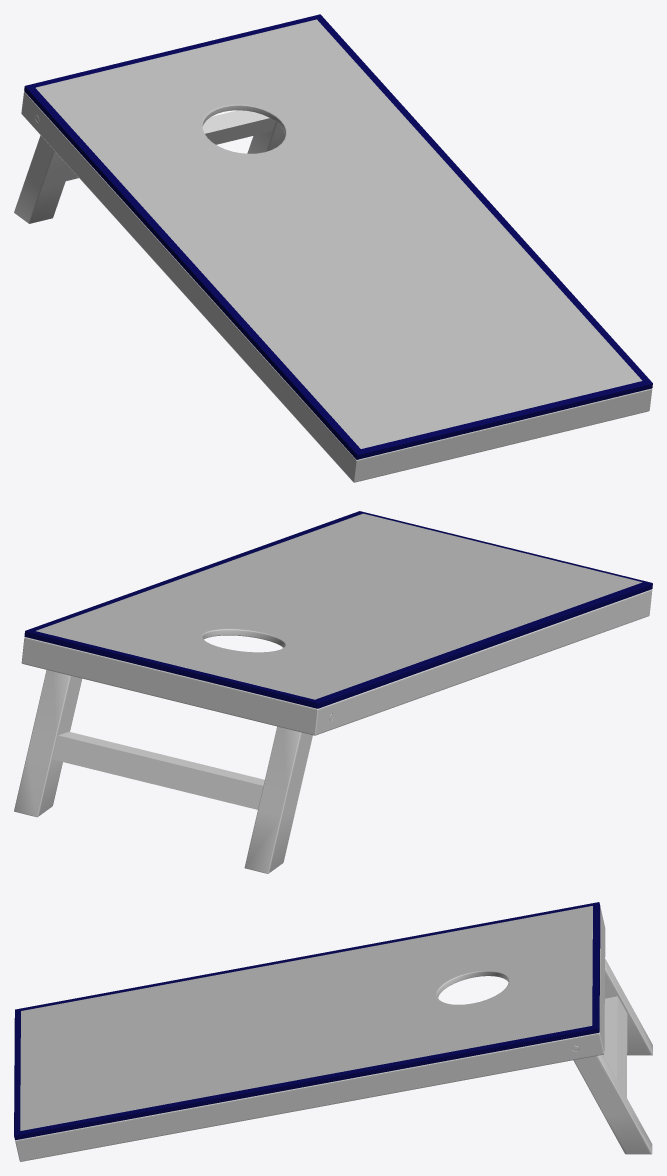
Rendered from cornhole-board.glb.
The picture shows the model from 3 angles, top to bottom: view 1: azimuth 30°, elevation 25°; view 2: azimuth 150°, elevation 25°; view 3: azimuth 270°, elevation 25°; orthographic projection. The views are drawn at different scales.
Parts seen in each view (by area): view 1: Face, Base, Border, Legs; view 2: Face, Base, Legs, Border; view 3: Face, Base, Border, Legs.
Boxes of the visible parts, x1=… form: Face: x1=36, y1=19, x2=641, y2=448; Base: x1=21, y1=88, x2=652, y2=482; Border: x1=24, y1=14, x2=652, y2=459; Legs: x1=14, y1=110, x2=285, y2=223; Face: x1=36, y1=513, x2=641, y2=699; Base: x1=21, y1=582, x2=652, y2=735; Legs: x1=14, y1=670, x2=312, y2=873; Border: x1=24, y1=511, x2=652, y2=708; Face: x1=20, y1=906, x2=592, y2=1130; Base: x1=15, y1=908, x2=605, y2=1161; Border: x1=14, y1=902, x2=600, y2=1140; Legs: x1=573, y1=958, x2=652, y2=1154.
Bounding box in the file's own units: 0.6132 × 0.3045 × 1.31.
